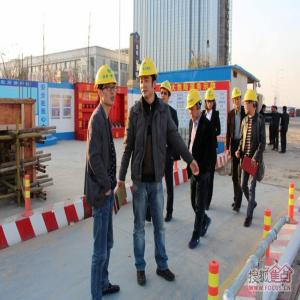none: (262, 105, 267, 113), (283, 106, 288, 114), (275, 107, 279, 114), (272, 106, 275, 113)
yellow: (96, 66, 118, 107), (139, 58, 158, 98), (187, 89, 202, 121), (244, 90, 258, 117), (160, 81, 173, 106), (205, 88, 217, 111), (232, 87, 243, 110)
